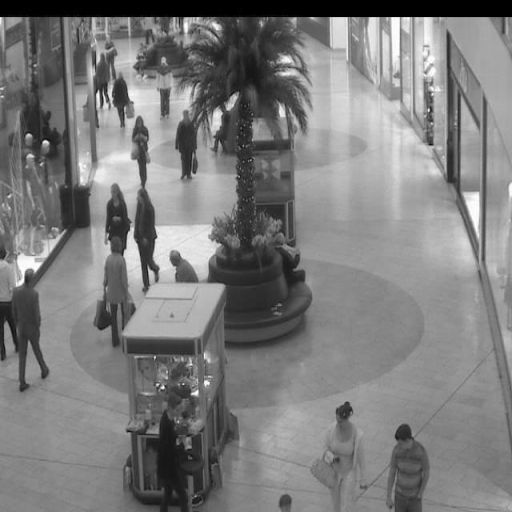person: (316, 401, 368, 509), (11, 260, 50, 391), (156, 393, 191, 512), (386, 423, 430, 512), (97, 242, 133, 348), (134, 187, 161, 291), (99, 182, 131, 256), (1, 230, 16, 368), (174, 108, 199, 180), (130, 113, 151, 188), (89, 48, 115, 104), (162, 248, 201, 282), (114, 72, 131, 127), (158, 44, 170, 118), (215, 107, 229, 158), (103, 34, 120, 72), (274, 491, 298, 511)
